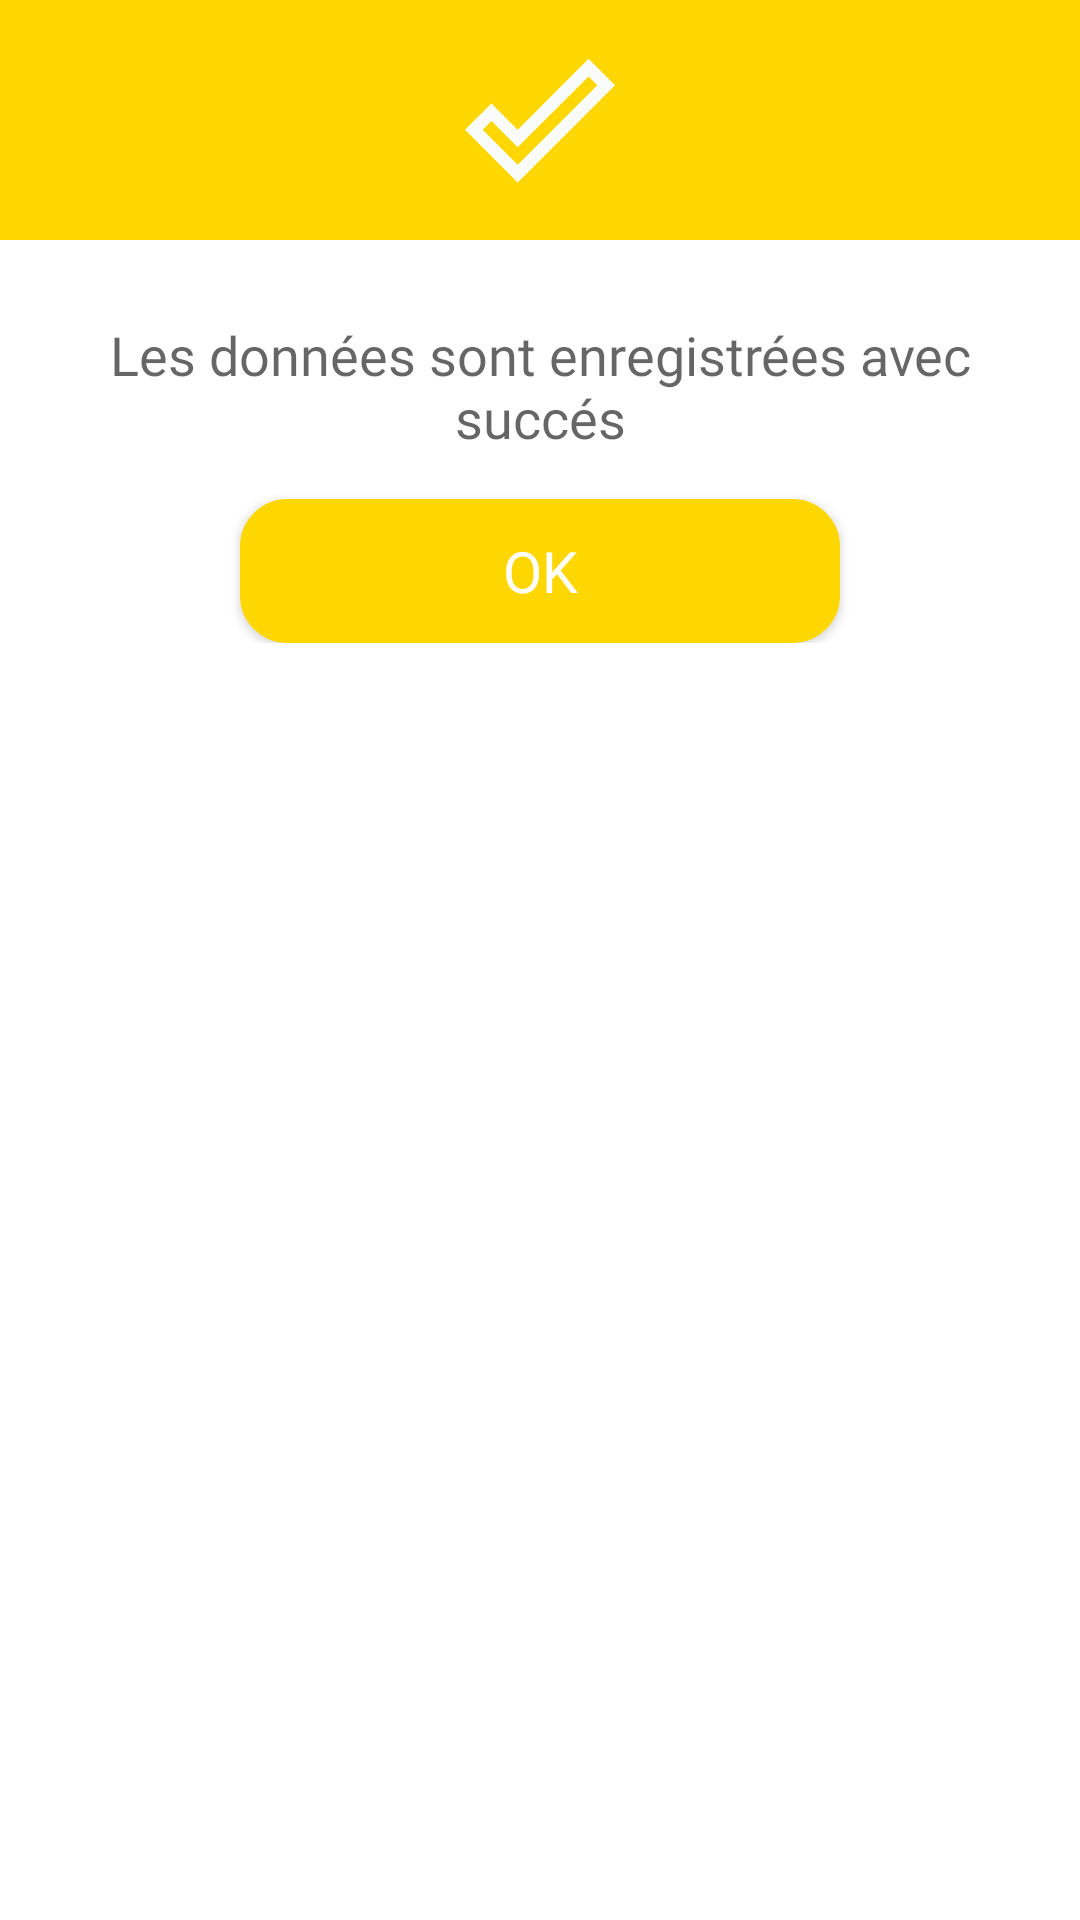

Where icons sit on this 1080px x 1920px app screen, as (x1, y1, x2, y2):
done: (465, 59, 615, 183)
